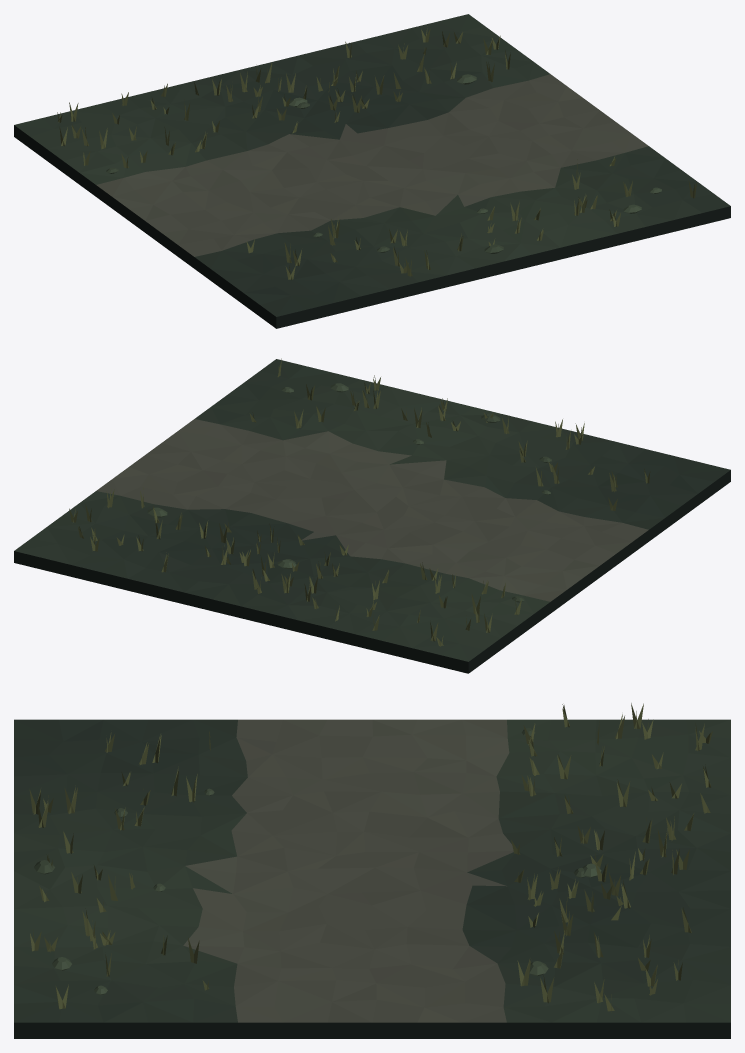
Rendered from CHUNK_dark_canopy_forest__hunting_glade.glb.
The picture shows the model from 3 angles, top to bottom: view 1: azimuth 30°, elevation 25°; view 2: azimuth 150°, elevation 25°; view 3: azimuth 270°, elevation 25°; orthographic projection. The views are drawn at different scales.
Parts seen in each view (by area): view 1: CHUNK_dark_canopy_forest__hunting_glade; view 2: CHUNK_dark_canopy_forest__hunting_glade; view 3: CHUNK_dark_canopy_forest__hunting_glade.
Part boxes in pixels (x1=…): CHUNK_dark_canopy_forest__hunting_glade: x1=14, y1=14, x2=730, y2=328; CHUNK_dark_canopy_forest__hunting_glade: x1=14, y1=358, x2=730, y2=673; CHUNK_dark_canopy_forest__hunting_glade: x1=14, y1=703, x2=730, y2=1038.
Size of the model in its own units: 8 by 0.5715 by 8.
